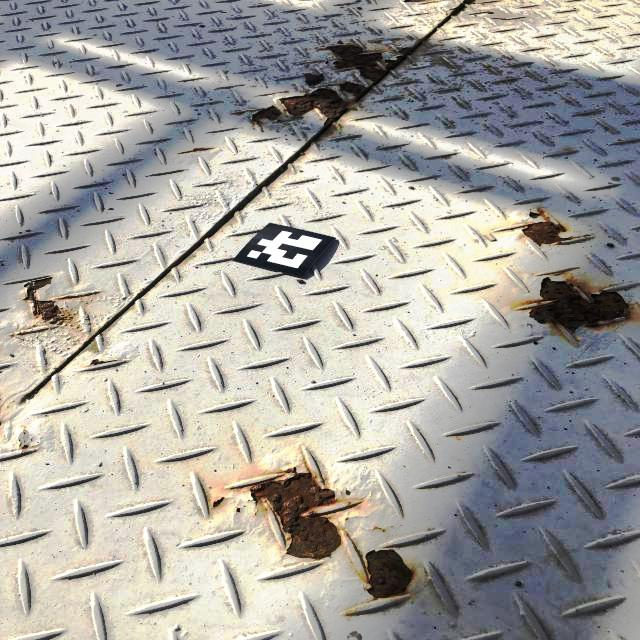Corrosion: (251, 473, 342, 560), (531, 278, 631, 333), (325, 42, 412, 102), (274, 88, 346, 126), (366, 551, 414, 599), (24, 278, 66, 324), (523, 221, 567, 245), (251, 104, 282, 122), (87, 359, 116, 367), (211, 496, 229, 508), (527, 208, 545, 220), (402, 0, 429, 5)
